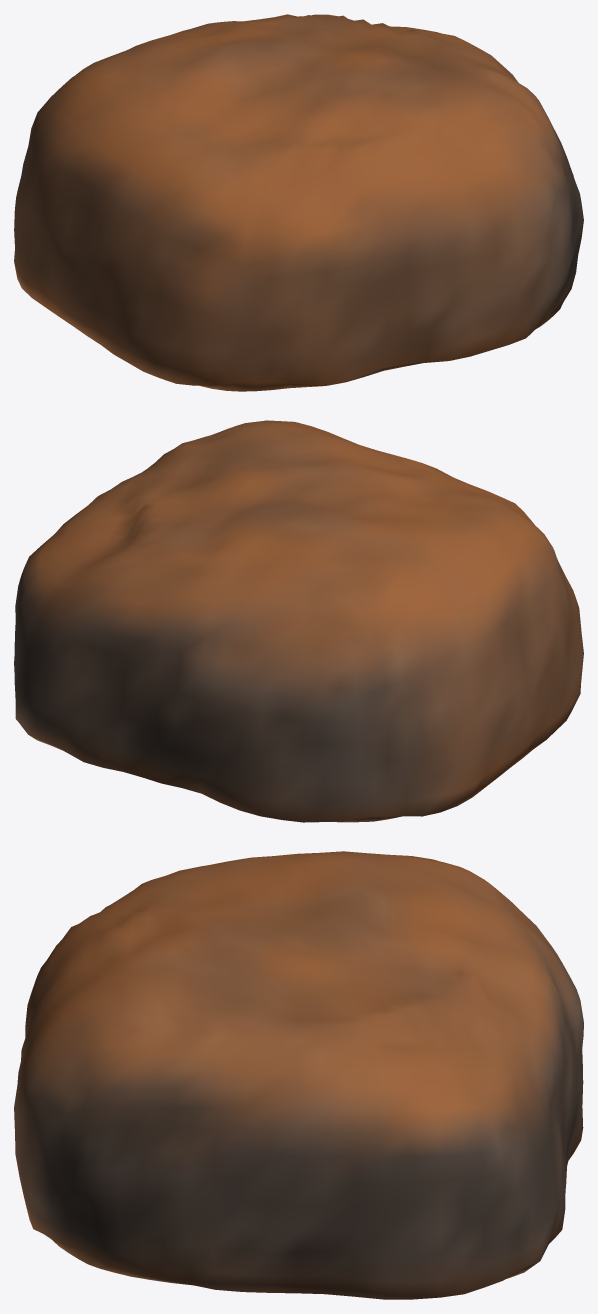
File: yogi.glb
3 views of the same model, one above another, from view 1: azimuth 30°, elevation 25°; view 2: azimuth 150°, elevation 25°; view 3: azimuth 270°, elevation 25° (orthographic). The views are drawn at different scales.
Parts seen in each view (by area): view 1: cover-yogi; view 2: cover-yogi; view 3: cover-yogi.
Part boxes in pixels (box(x1,y1,x2,y2)): cover-yogi: box(14, 14, 583, 391); cover-yogi: box(14, 420, 583, 822); cover-yogi: box(14, 851, 583, 1299).
Bounding box in the file's own units: 0.2645 × 0.12 × 0.2472.
